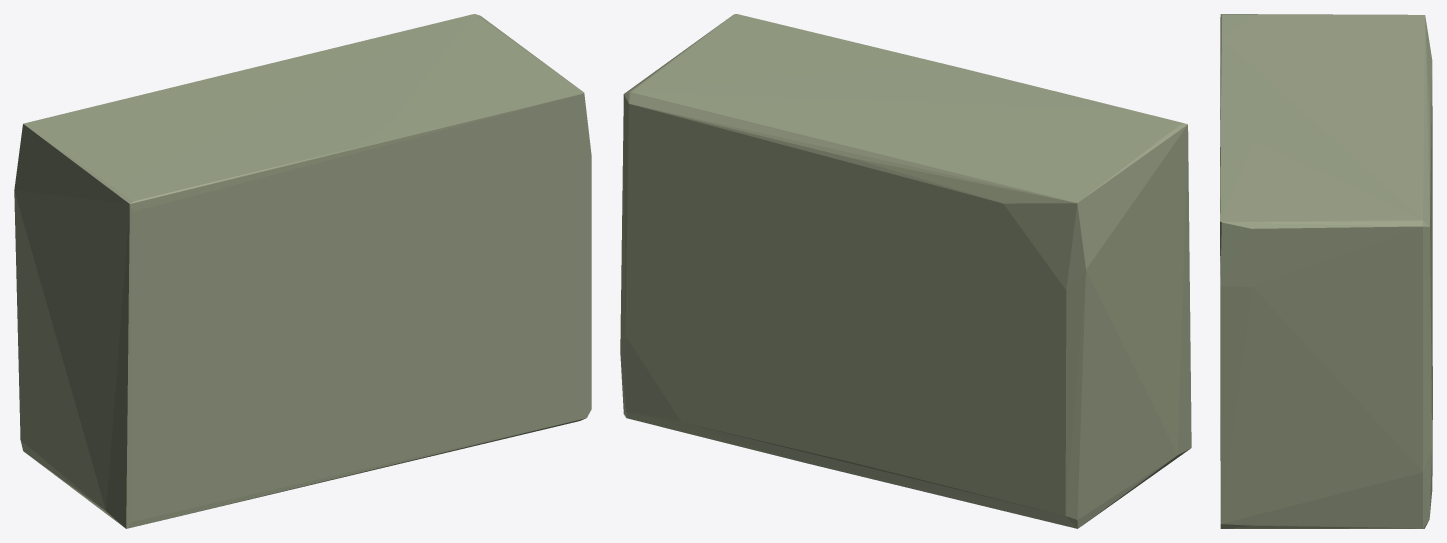
File: crate_white_a01.glb
The picture shows the model from 3 angles, left to right: view 1: azimuth 30°, elevation 25°; view 2: azimuth 150°, elevation 25°; view 3: azimuth 270°, elevation 25°; orthographic projection. The views are drawn at different scales.
Visible parts, largest first — view 1: geometry_0; view 2: geometry_0; view 3: geometry_0.
Part boxes in pixels (x1,y1,x2,y2): geometry_0: (14, 14, 591, 528); geometry_0: (620, 14, 1191, 528); geometry_0: (1220, 14, 1432, 528).
Bounding box in the file's own units: 0.4795 × 0.3214 × 0.2008.
